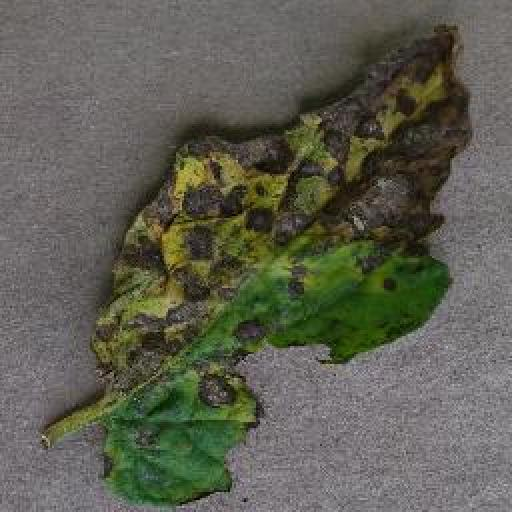Early Blight: (94, 24, 472, 507)
